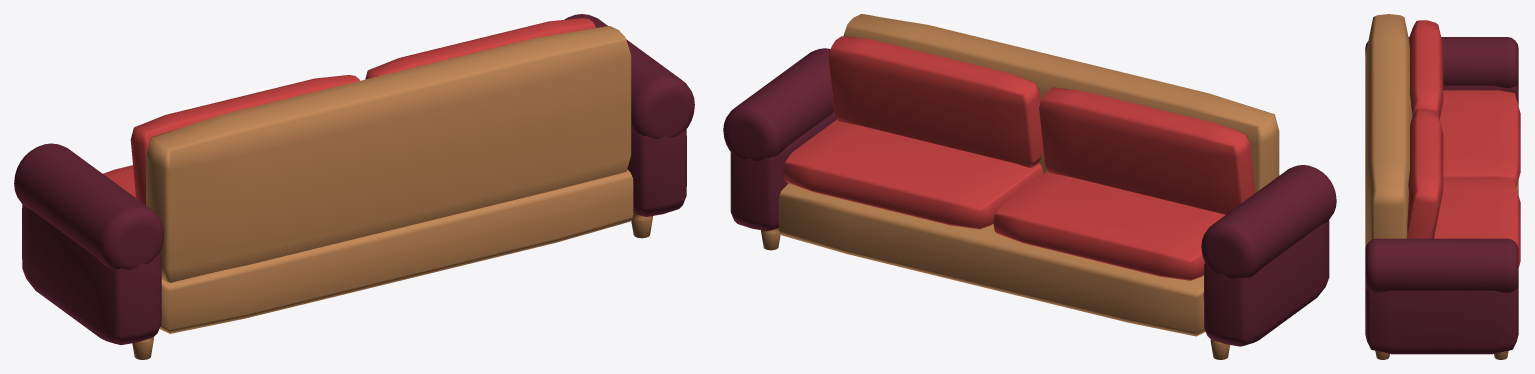
The model's file is BigBadVacuumCouch.obj.
The picture shows the model from 3 angles, left to right: view 1: azimuth 30°, elevation 25°; view 2: azimuth 150°, elevation 25°; view 3: azimuth 270°, elevation 25°; orthographic projection. The views are drawn at different scales.
Visible parts, largest first — view 1: Back, Arm, Seat, Cushion, Leg; view 2: Cushion, Arm, Seat, Back, Leg; view 3: Arm, Cushion, Back, Leg.
Boxes of the visible parts, x1,y1,x2,y2 form: Back: [146, 26, 631, 282]; Arm: [14, 14, 694, 344]; Seat: [159, 169, 633, 333]; Cushion: [103, 18, 595, 204]; Leg: [132, 213, 652, 359]; Cushion: [782, 36, 1255, 280]; Arm: [723, 48, 1336, 346]; Seat: [778, 183, 1205, 336]; Back: [843, 14, 1279, 192]; Leg: [761, 228, 1229, 359]; Arm: [1365, 37, 1518, 354]; Cushion: [1407, 20, 1520, 267]; Back: [1365, 14, 1412, 248]; Leg: [1375, 350, 1508, 359].
Size of the model in its own units: 90.4 by 31 by 26.35.
